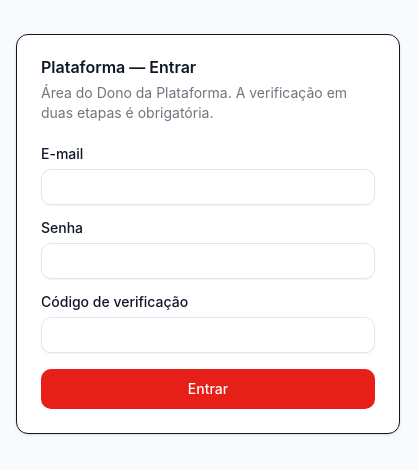
PlataformaLoginPage (Story 9.2) › 400 VALIDATION_ERROR pede os três campos
Type "dona@plataforma.com" into the field labelled "E-mail" at (208,187), box [41, 169, 375, 205]
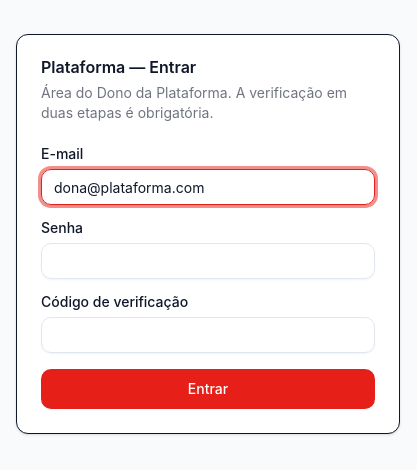
Type "senha-dono-123" into the password field labelled "Senha" at (208,261), box [41, 243, 375, 279]
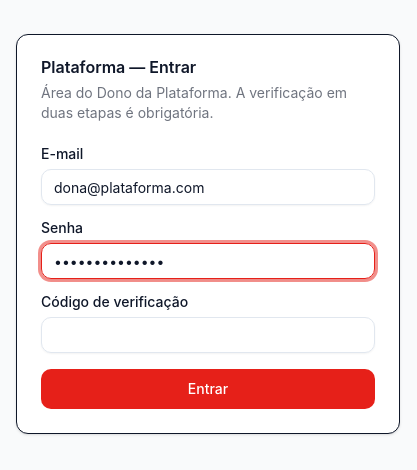
Type "123456" into the field labelled "Código de verificação" at (208,335), box [41, 317, 375, 353]
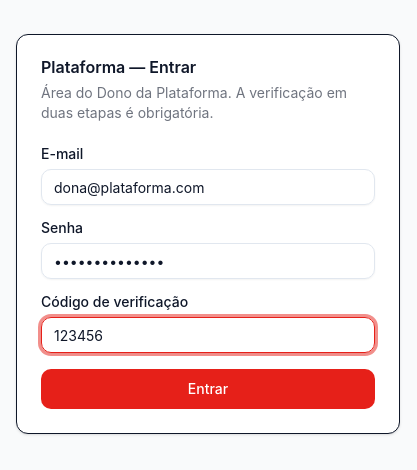
Click the button "Entrar" at (208,389), box [41, 369, 375, 409]
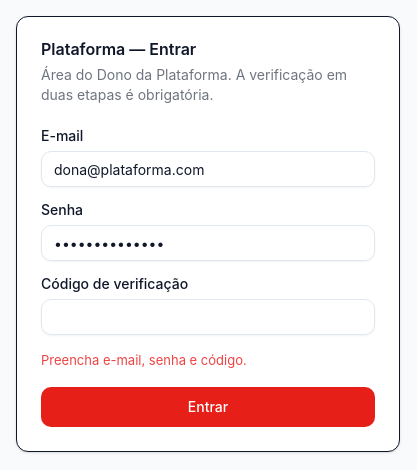
Now the message reads "Preencha e-mail, senha e código.", box [41, 352, 247, 368]
